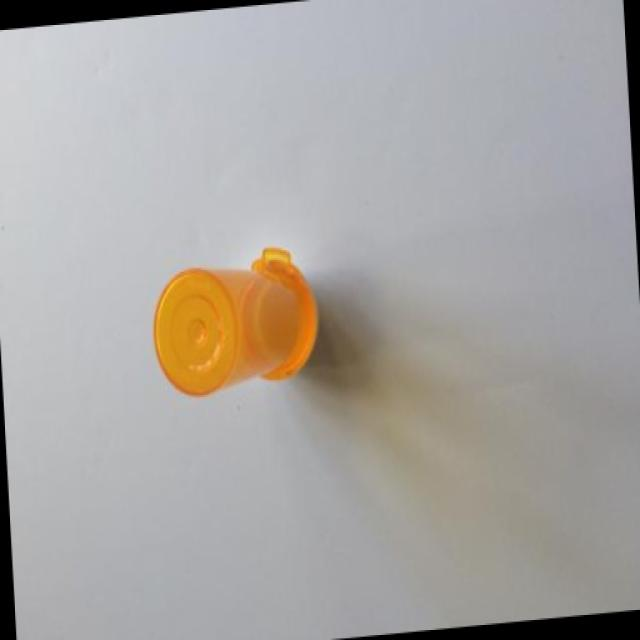plastico: (148, 218, 353, 449)
